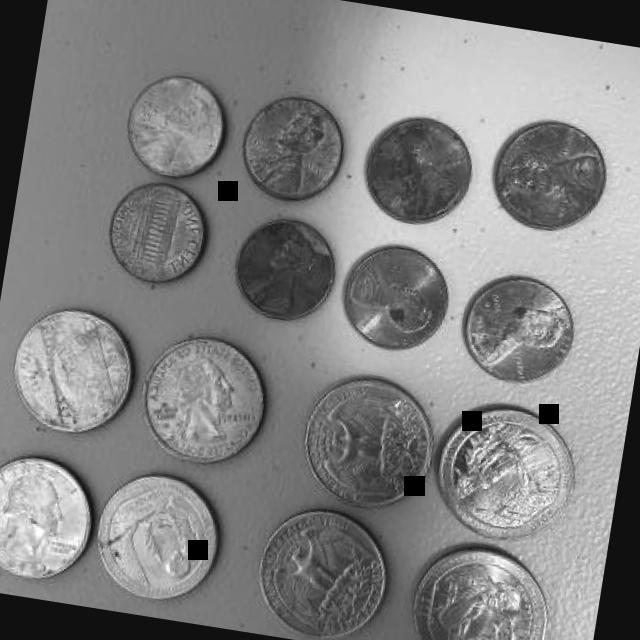Penny: (484, 110, 617, 242), (453, 266, 579, 392), (334, 234, 458, 358), (354, 105, 478, 228), (224, 209, 344, 328), (115, 64, 235, 183), (236, 85, 351, 204), (100, 173, 214, 292)
Quarter: (422, 392, 584, 552), (291, 364, 445, 516), (129, 327, 275, 480), (246, 495, 397, 640), (86, 463, 227, 609), (1, 299, 144, 442), (403, 535, 561, 640), (0, 444, 101, 586)
